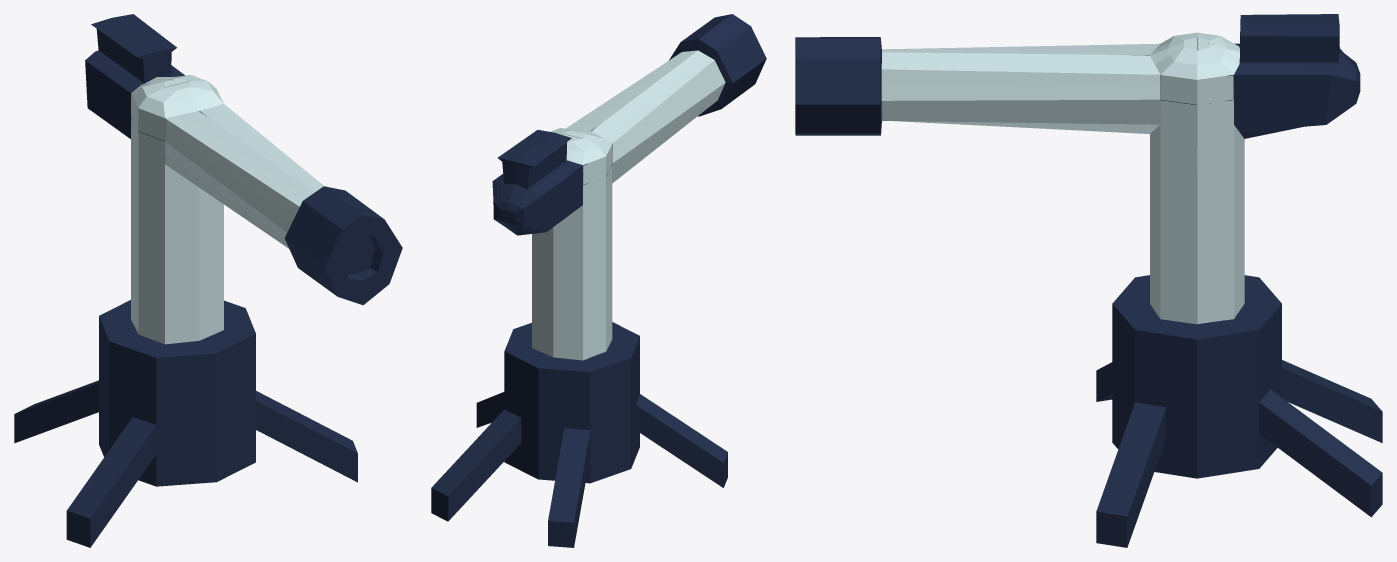
File: turret.fbx
3 renders of one model, left to right at view 1: azimuth 30°, elevation 25°; view 2: azimuth 150°, elevation 25°; view 3: azimuth 270°, elevation 25°, orthographic. The views are drawn at different scales.
Parts seen in each view (by area): view 1: turret; view 2: turret; view 3: turret.
Part boxes in pixels (x1=…): turret: x1=14, y1=14, x2=402, y2=547; turret: x1=431, y1=14, x2=766, y2=547; turret: x1=795, y1=14, x2=1382, y2=547.
Bounding box in the file's own units: 59.02 × 82.07 × 97.19.
